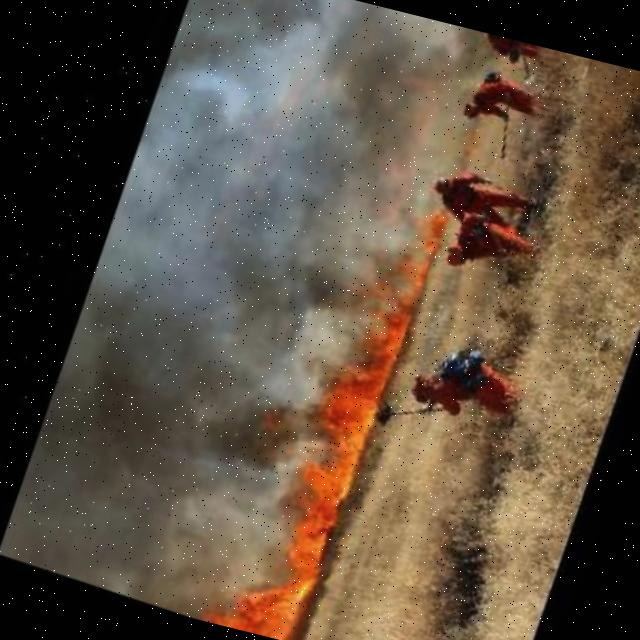fire: (170, 170, 456, 640)
